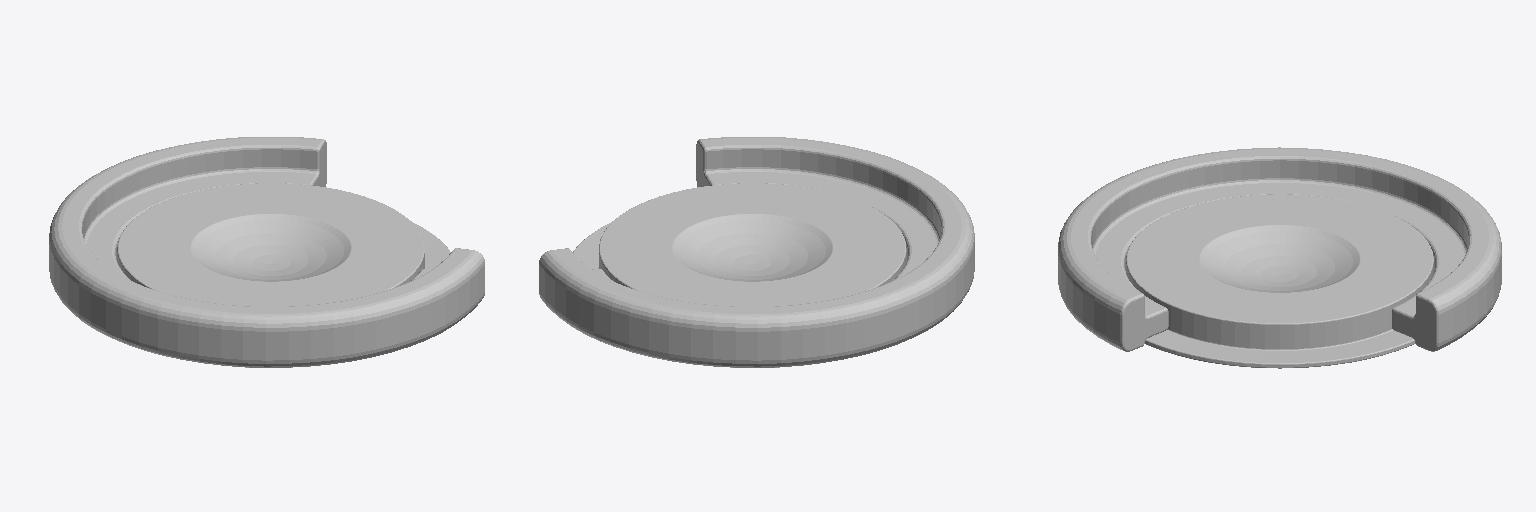
Rendered from JM_MaterialPreview_02.obj.
The picture shows the model from 3 angles: view 1: azimuth 30°, elevation 25°; view 2: azimuth 150°, elevation 25°; view 3: azimuth 270°, elevation 25°; orthographic projection.
Parts seen in each view (by area): view 1: JM_MatPrev_02_Plane.004; view 2: JM_MatPrev_02_Plane.004; view 3: JM_MatPrev_02_Plane.004.
Part boxes in pixels (x1,y1,x2,y2): JM_MatPrev_02_Plane.004: (49,137,484,367); JM_MatPrev_02_Plane.004: (539,137,974,367); JM_MatPrev_02_Plane.004: (1058,147,1501,368).
Bounding box in the file's own units: 2.14 × 0.3035 × 2.32.